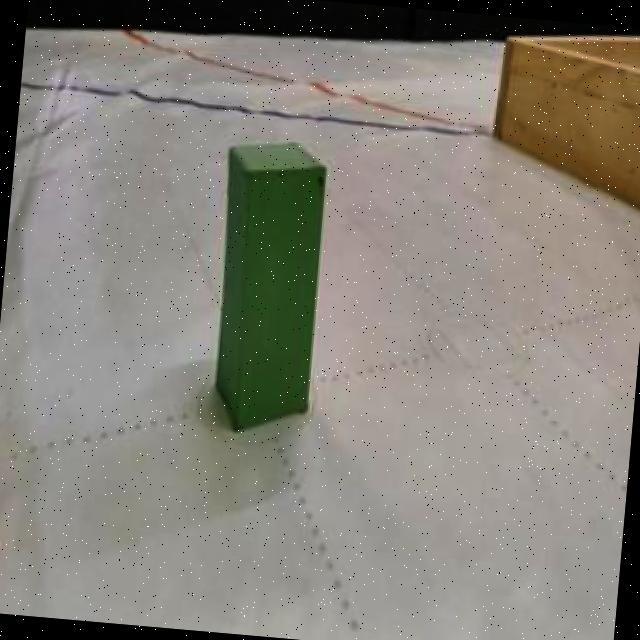greenbox: (200, 130, 332, 438)
